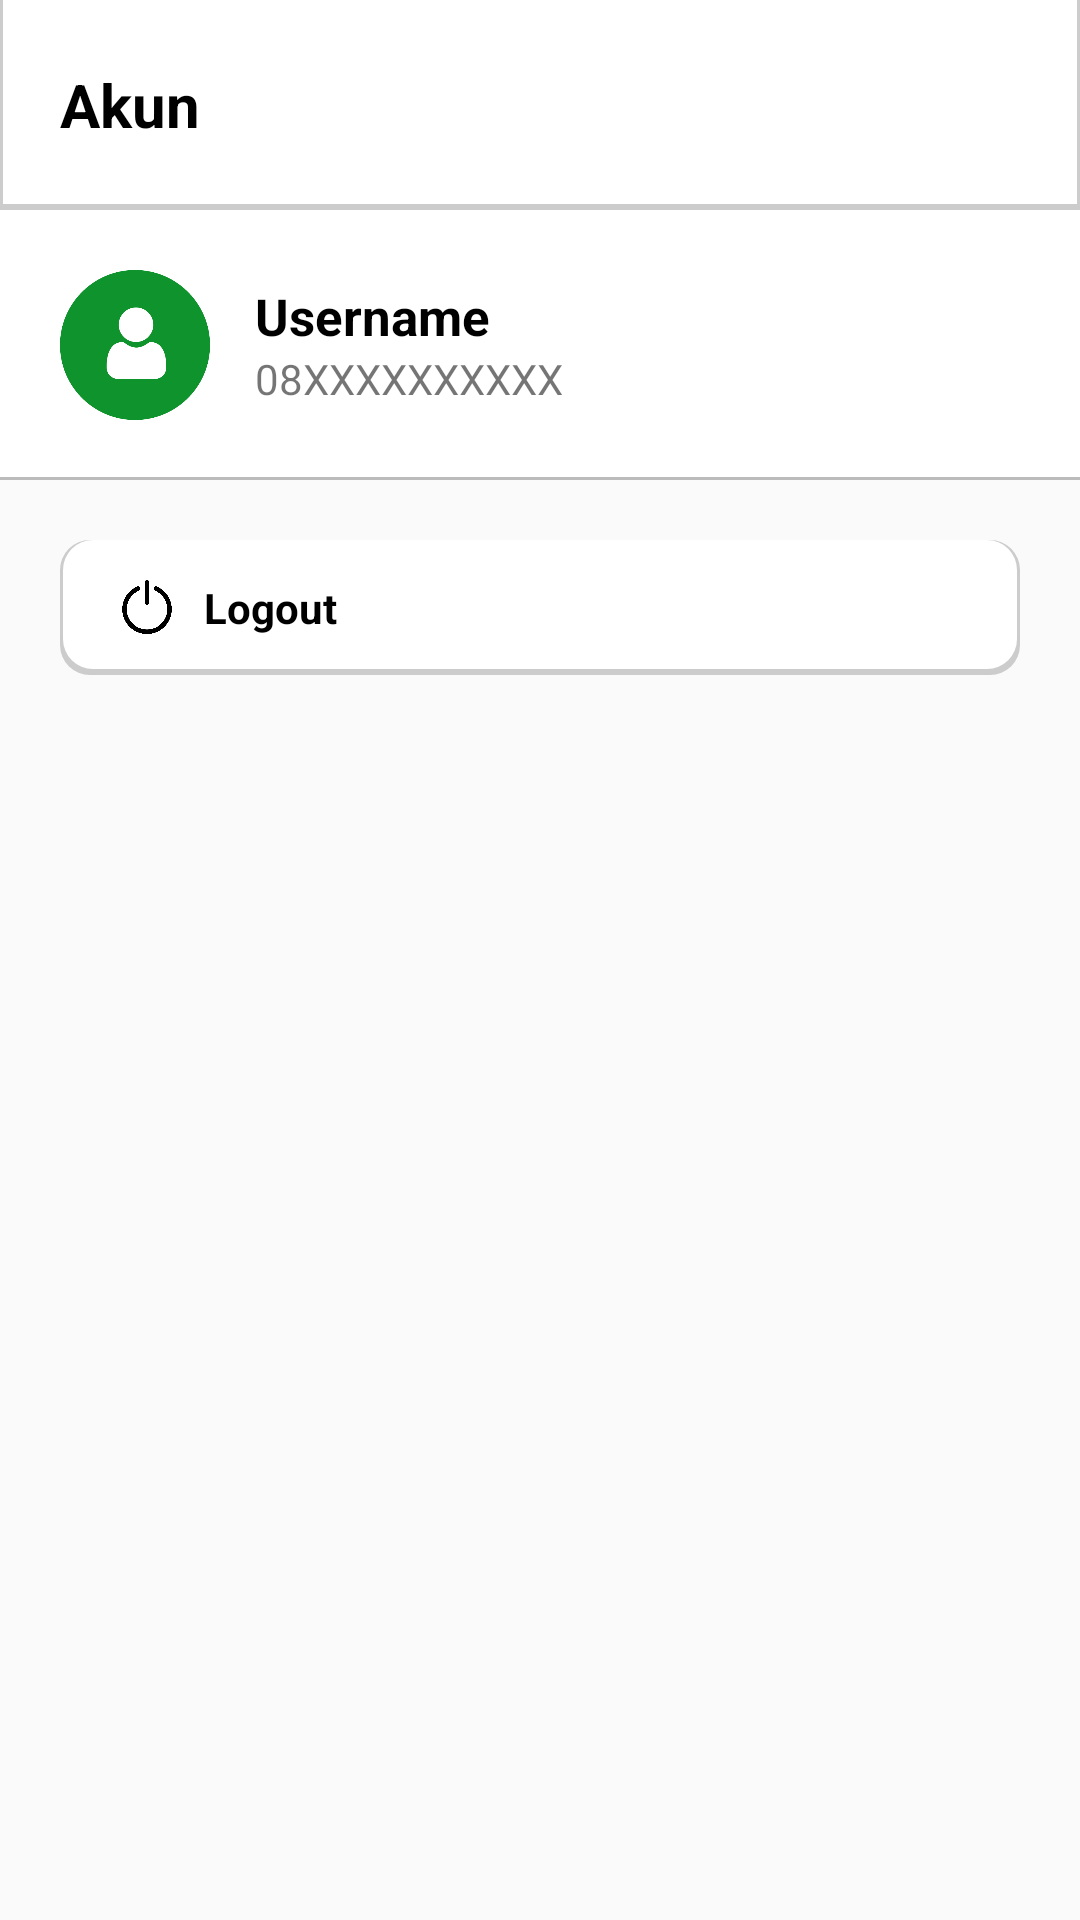

Screen size 1080x1920. Icon name, then its center in pixels as (x,y):
usr: (135,345)
